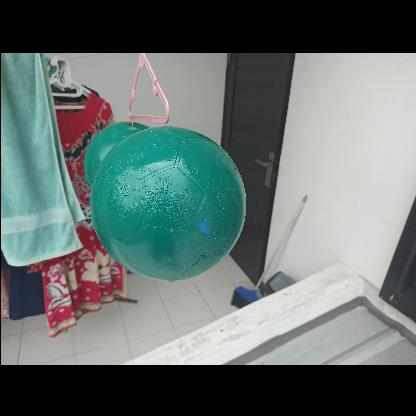green_ball: (90, 126, 244, 280)
